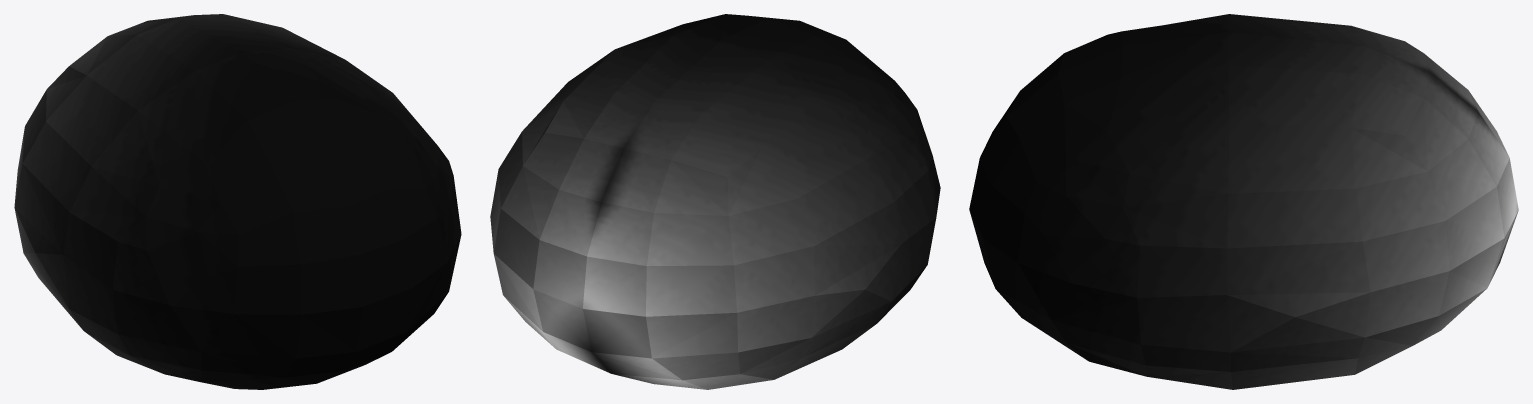
Rendered from 0039_HT_FX_DunJiaJian_dan.glb.
3 views of the same model, side by side, from view 1: azimuth 30°, elevation 25°; view 2: azimuth 150°, elevation 25°; view 3: azimuth 270°, elevation 25° (orthographic). The views are drawn at different scales.
Bounding box in the file's own units: 1.77 × 1.44 × 2.2.
Materials: 1 (1 with a texture image).
